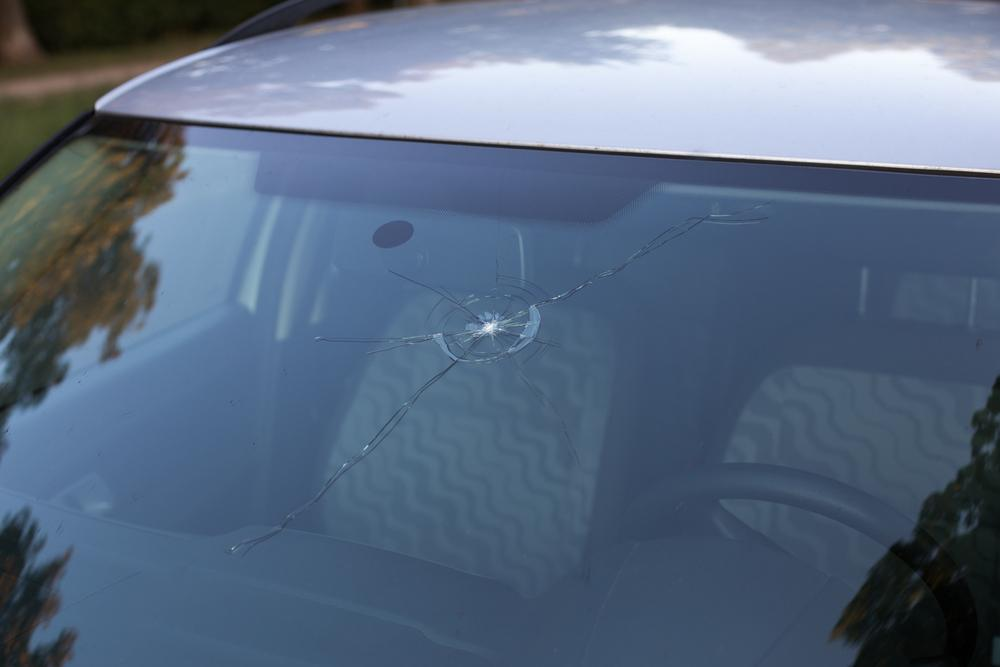glass shatter: (0, 114, 1000, 667)
